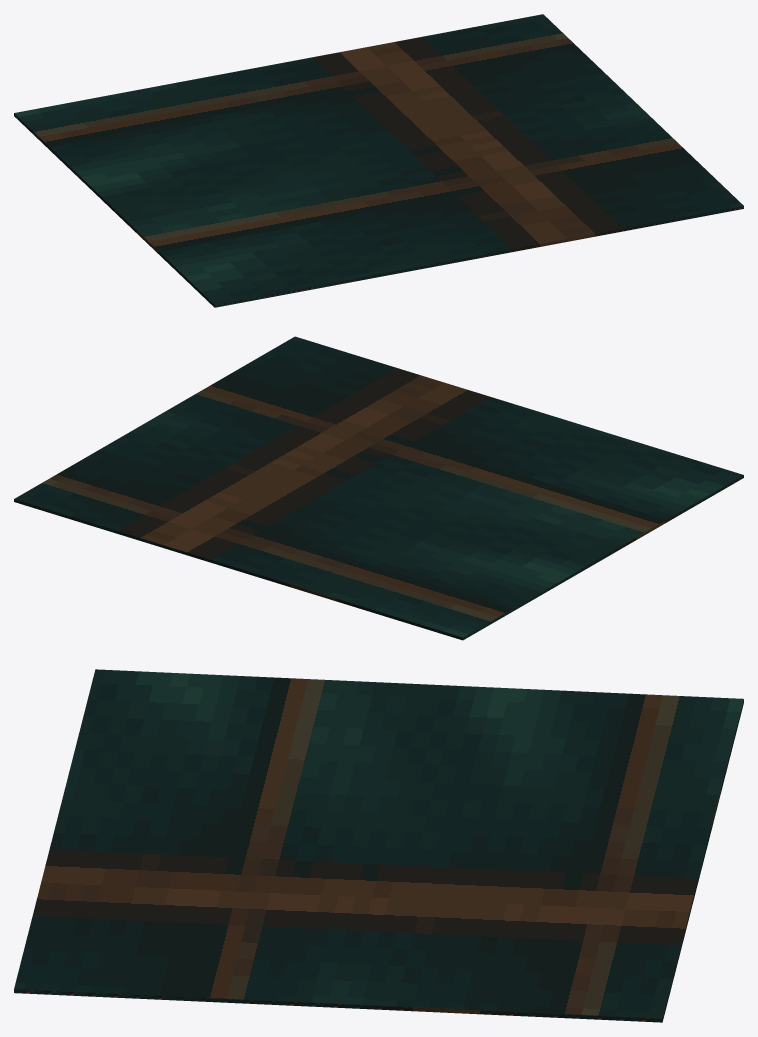
File: prop_water_stain-1.glb
3 renders of one model, top to bottom at view 1: azimuth 30°, elevation 25°; view 2: azimuth 150°, elevation 25°; view 3: azimuth 270°, elevation 25°, orthographic. The views are drawn at different scales.
Parts seen in each view (by area): view 1: prop_water_stain-1; view 2: prop_water_stain-1; view 3: prop_water_stain-1.
Boxes of the visible parts, x1,y1,x2,y2 form: prop_water_stain-1: [14, 14, 743, 307]; prop_water_stain-1: [14, 336, 743, 640]; prop_water_stain-1: [14, 669, 743, 1022].
Size of the model in its own units: 0.7602 by 0.004 by 0.6714.
Materials: 1 (1 with a texture image).
